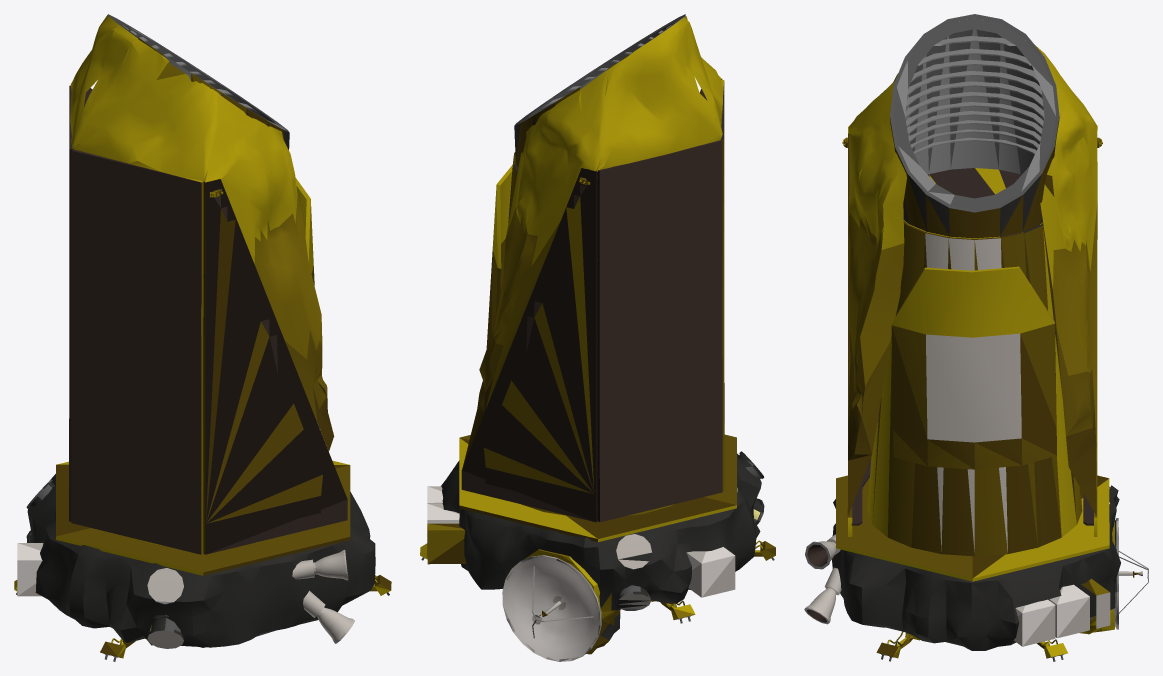
Rendered from kepler.glb.
3 views of the same model, side by side, from view 1: azimuth 30°, elevation 25°; view 2: azimuth 150°, elevation 25°; view 3: azimuth 270°, elevation 25° (orthographic). The views are drawn at different scales.
Visible parts, largest first — view 1: foil, solar-panel, body; view 2: solar-panel, foil, body; view 3: foil, body.
Part boxes in pixels (x1=…): foil: x1=14, y1=14, x2=391, y2=661; solar-panel: x1=69, y1=149, x2=347, y2=554; body: x1=17, y1=14, x2=354, y2=648; solar-panel: x1=462, y1=141, x2=724, y2=522; foil: x1=420, y1=14, x2=775, y2=654; body: x1=427, y1=14, x2=735, y2=661; foil: x1=832, y1=45, x2=1138, y2=661; body: x1=804, y1=14, x2=1148, y2=646.
Bounding box in the file's own units: 2.65 × 5.01 × 2.66.
